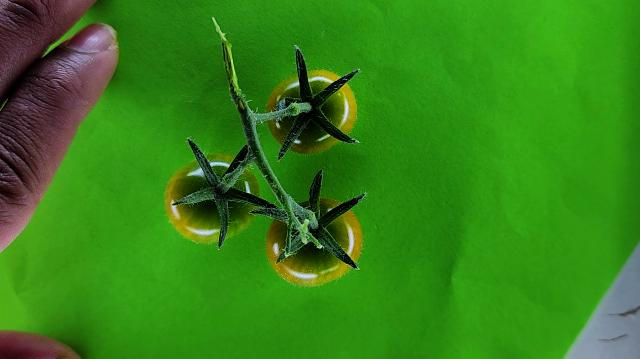Fully Grown: (266, 196, 363, 287), (164, 154, 262, 244), (266, 69, 358, 155)
